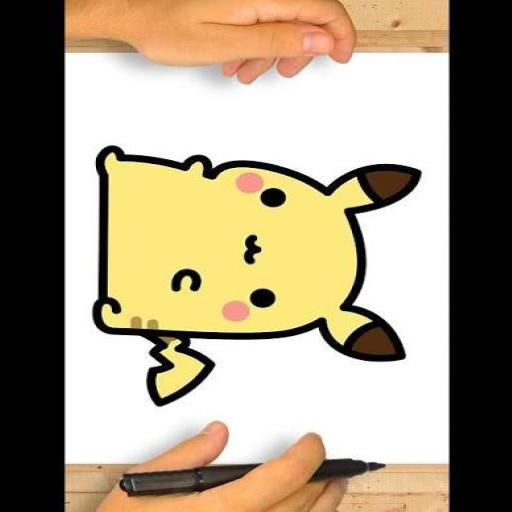Pikachu: (92, 145, 422, 407)
